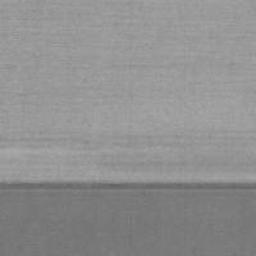Welding line: (0, 180, 256, 191)
